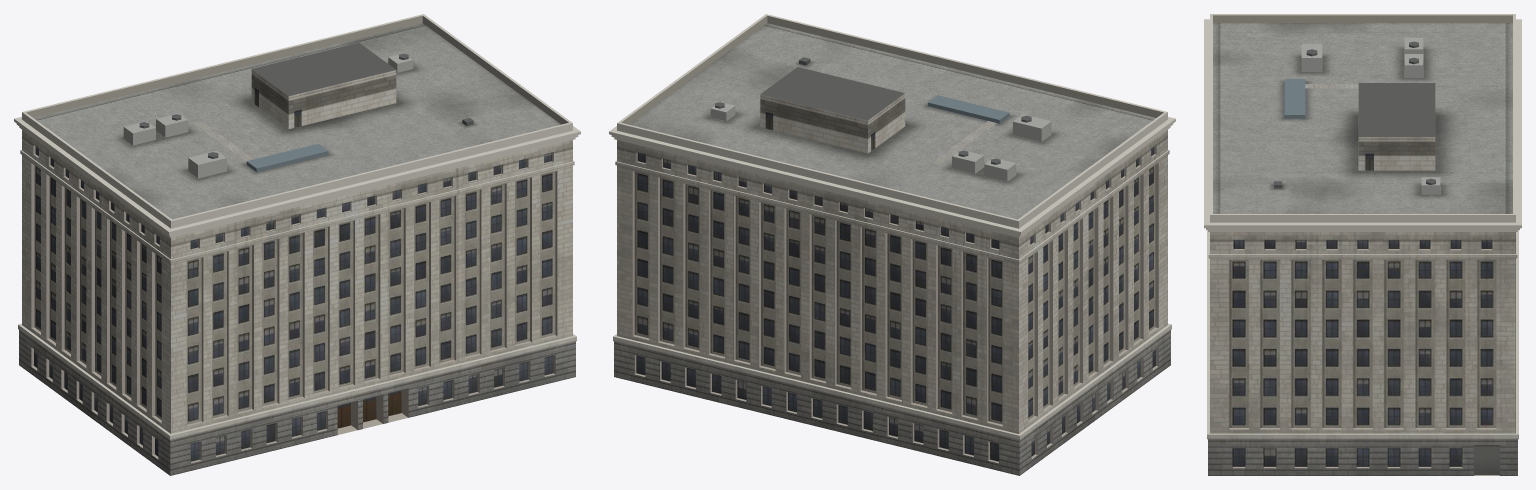
Rendered from dc_fed_plain_a.glb.
3 views of the same model, side by side, from view 1: azimuth 30°, elevation 25°; view 2: azimuth 150°, elevation 25°; view 3: azimuth 270°, elevation 25° (orthographic). The views are drawn at different scales.
Visible parts, largest first — view 1: dc_fed_plain_a; view 2: dc_fed_plain_a; view 3: dc_fed_plain_a.
Boxes of the visible parts, box(x1,y1,x2,y2) form: dc_fed_plain_a: box(14, 14, 580, 475); dc_fed_plain_a: box(609, 14, 1175, 475); dc_fed_plain_a: box(1204, 14, 1521, 475).
Bounding box in the file's own units: 57.4 × 37.15 × 37.4.
Materials: 1 (1 with a texture image).
